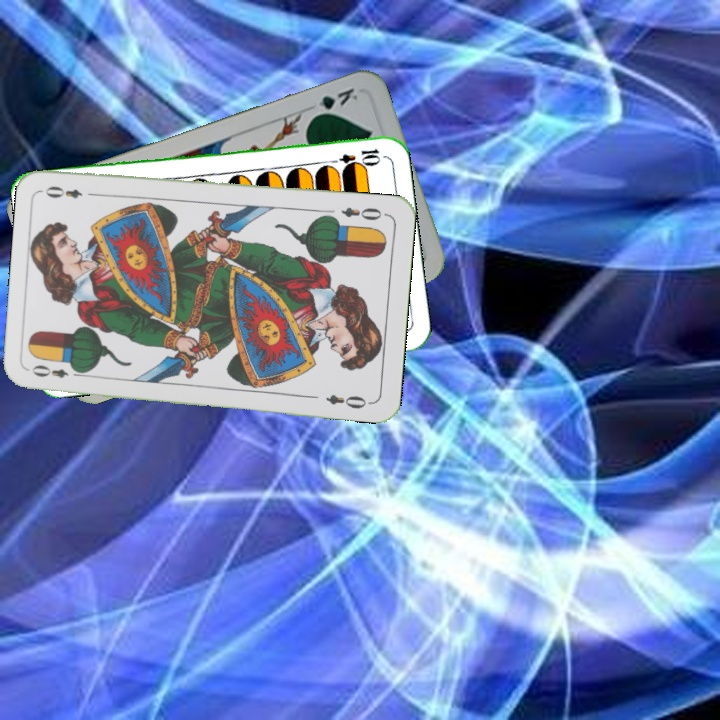E10: (324, 145, 383, 169)
EO: (28, 361, 85, 381), (337, 202, 384, 223)
GK: (307, 83, 361, 120)
